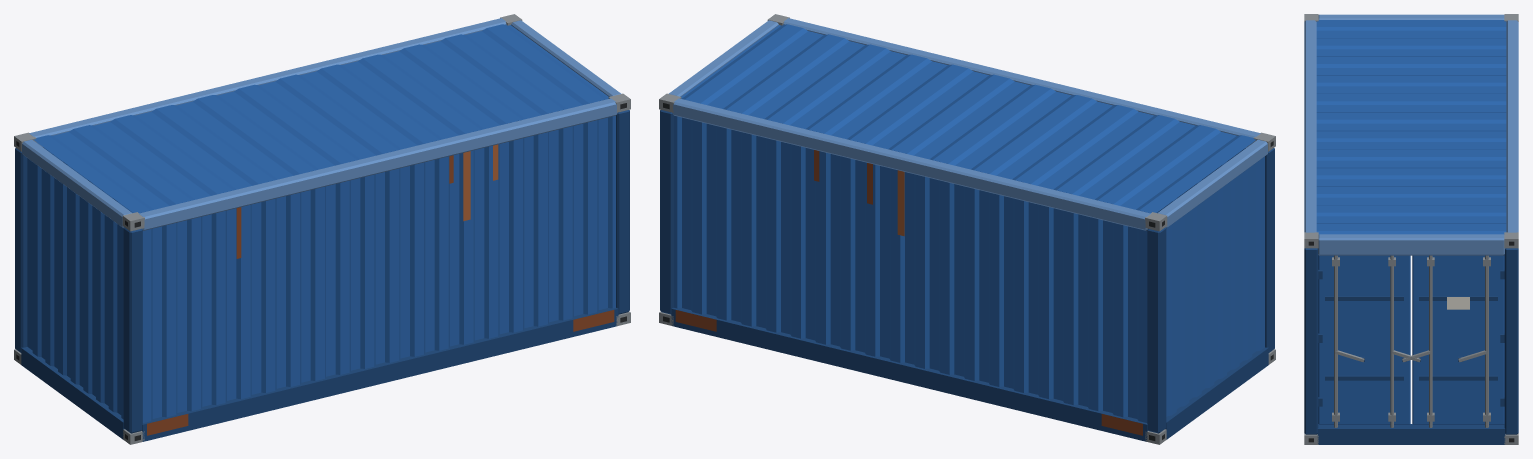
File: harbor_container_blue_v01.glb
3 views of the same model, side by side, from view 1: azimuth 30°, elevation 25°; view 2: azimuth 150°, elevation 25°; view 3: azimuth 270°, elevation 25° (orthographic). The views are drawn at different scales.
Parts seen in each view (by area): view 1: container_blue; view 2: container_blue; view 3: container_blue.
Boxes of the visible parts, x1,y1,x2,y2 form: container_blue: (14, 14, 630, 444); container_blue: (659, 14, 1275, 444); container_blue: (1304, 14, 1518, 444).
Bounding box in the file's own units: 6.06 × 2.59 × 2.44.
